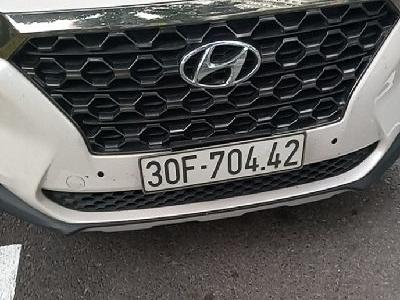lisence: (138, 131, 306, 195)
